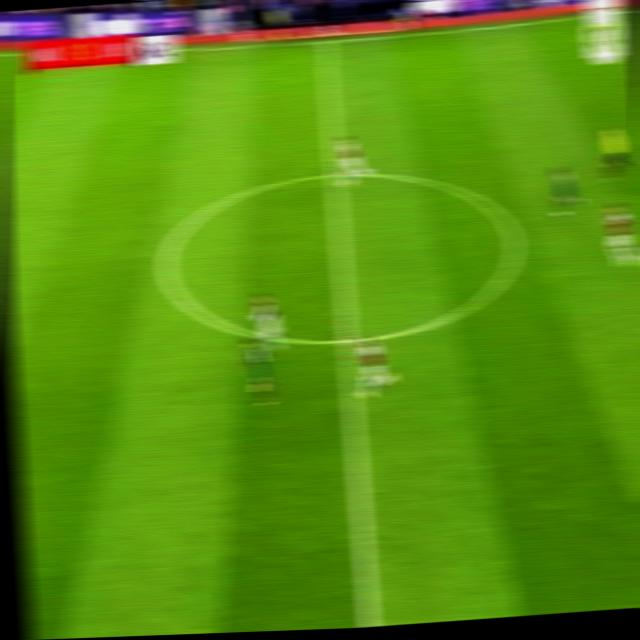halfcircle_bottom: (326, 311, 367, 368)
halfcircle_top: (315, 158, 354, 191)
midline_top_intersection: (307, 18, 343, 67)
